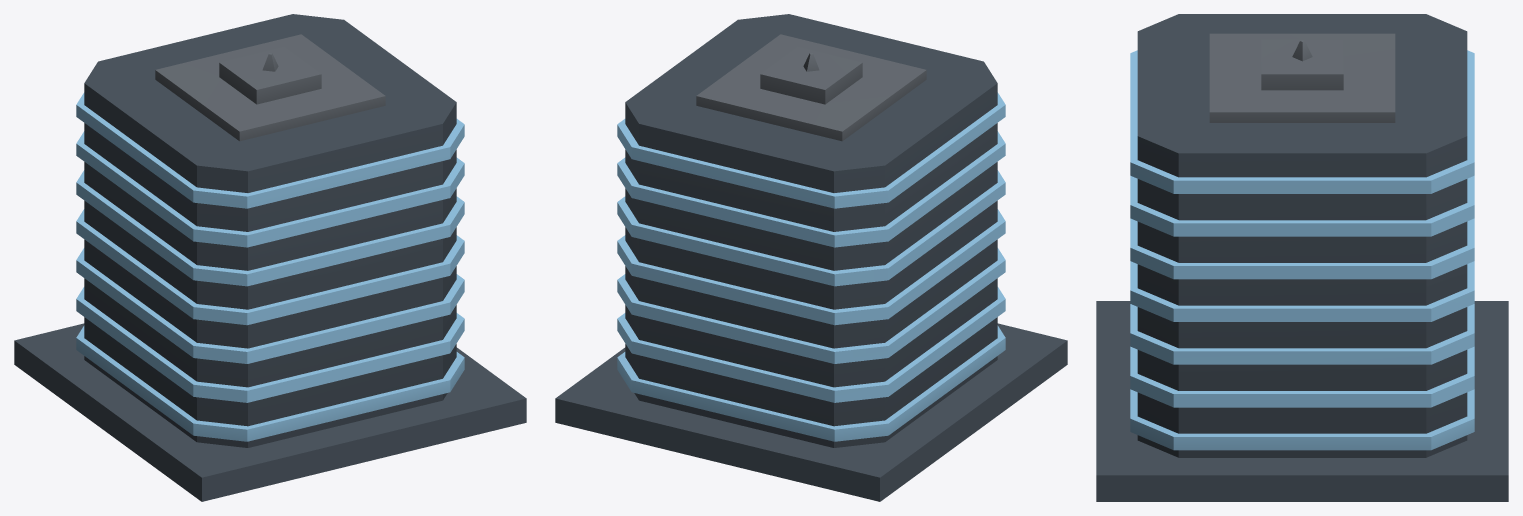
Rendered from glass.glb.
The picture shows the model from 3 angles, left to right: view 1: azimuth 30°, elevation 25°; view 2: azimuth 150°, elevation 25°; view 3: azimuth 270°, elevation 25°; orthographic projection. The views are drawn at different scales.
Parts seen in each view (by area): view 1: hard, windows, roof; view 2: hard, windows, roof; view 3: hard, windows, roof.
Boxes of the visible parts, x1,y1,x2,y2 form: hard: (14,14,526,501); windows: (76,92,464,441); roof: (155,34,385,141); hard: (555,14,1067,501); windows: (617,92,1005,441); roof: (696,34,926,141); hard: (1096,14,1508,501); windows: (1130,50,1474,450); roof: (1209,33,1395,122).
Bounding box in the file's own units: 1 × 1 × 1.
